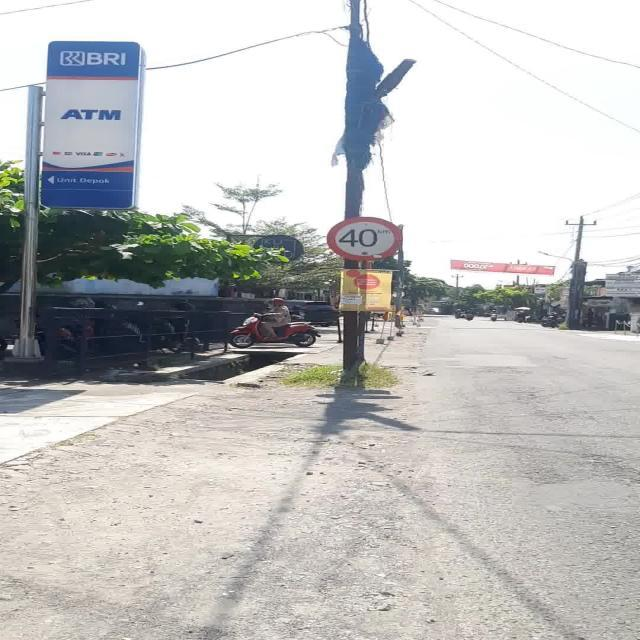Kecepatan Maks. 40 km: (326, 216, 404, 262)
